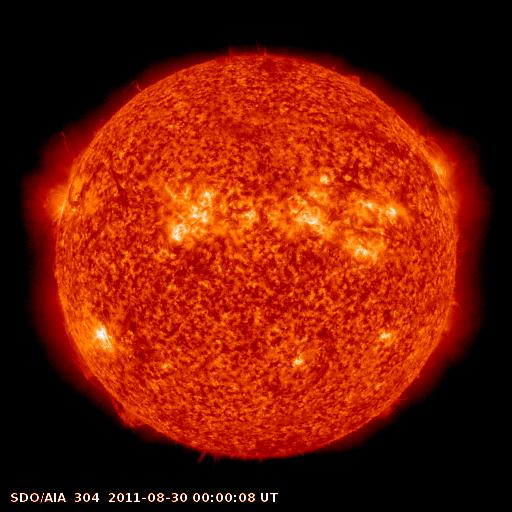prominence: (68, 336, 149, 437)
